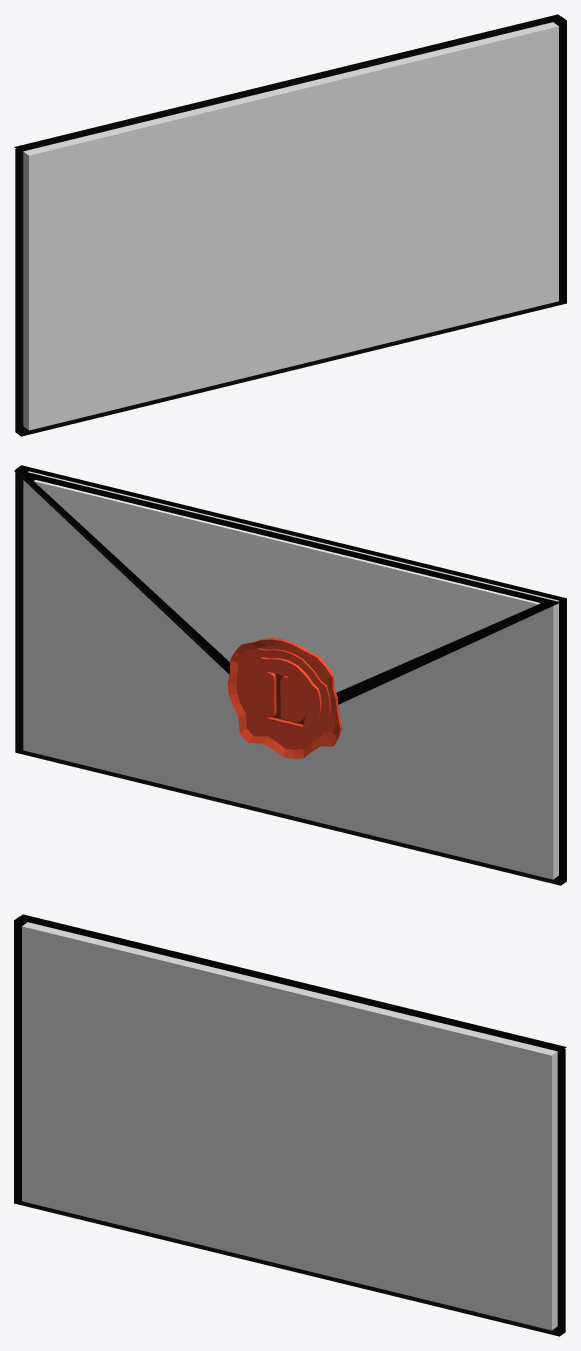
Rendered from carta.glb.
3 renders of one model, top to bottom at view 1: azimuth 30°, elevation 25°; view 2: azimuth 150°, elevation 25°; view 3: azimuth 330°, elevation 25°, orthographic.
Visible parts, largest first — view 1: Cube, Cube.001; view 2: Cube, Cube.001, Circle; view 3: Cube, Cube.001.
Boxes of the visible parts, x1,y1,x2,y2 form: Cube: (15, 16, 566, 436); Cube.001: (14, 14, 559, 148); Cube: (15, 465, 566, 885); Cube.001: (14, 469, 559, 721); Circle: (227, 638, 341, 758); Cube: (14, 916, 565, 1336); Cube.001: (21, 914, 566, 1048).
Size of the model in its own units: 4.58 by 2.27 by 0.1834.
